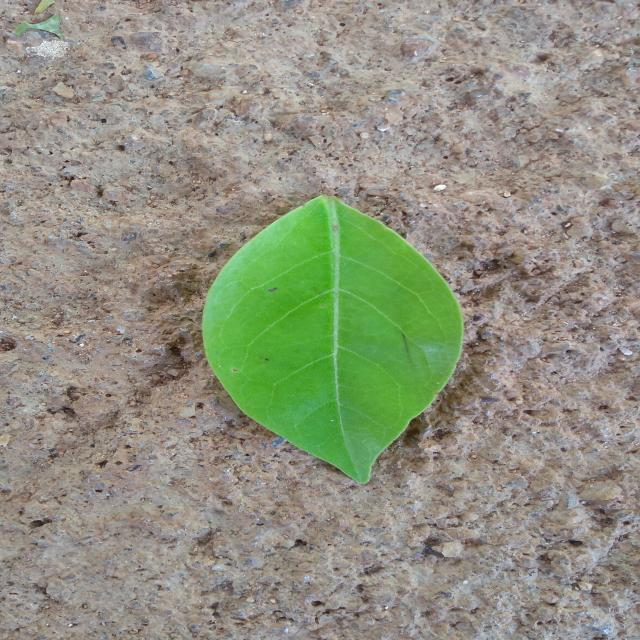sampige: (202, 196, 462, 482)
